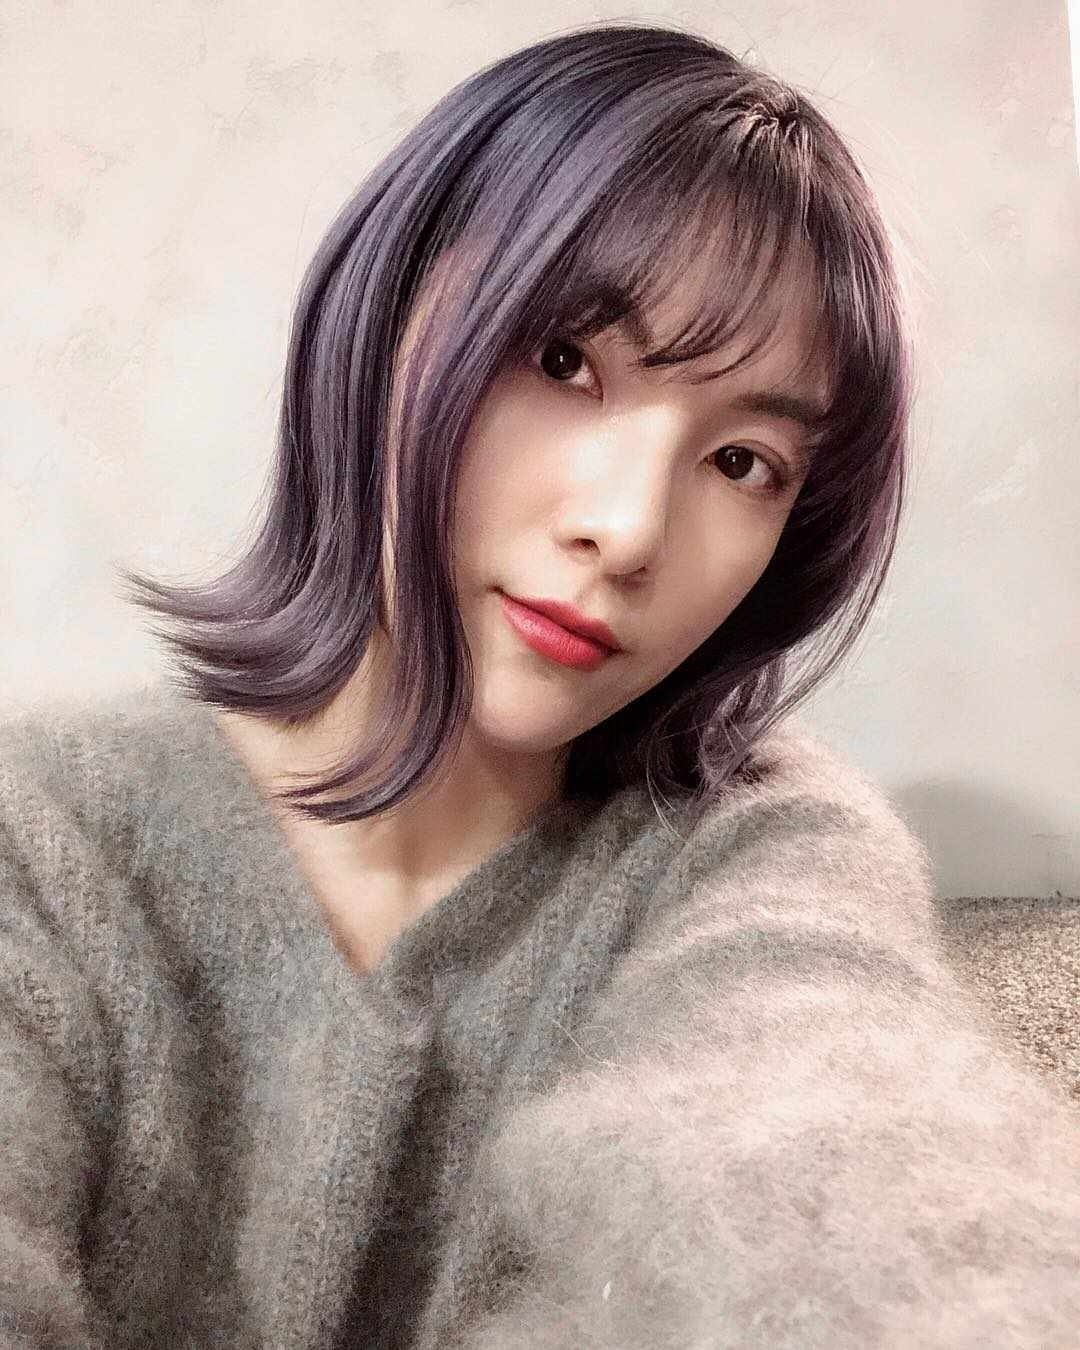face_no_mask: (307, 19, 890, 753)
